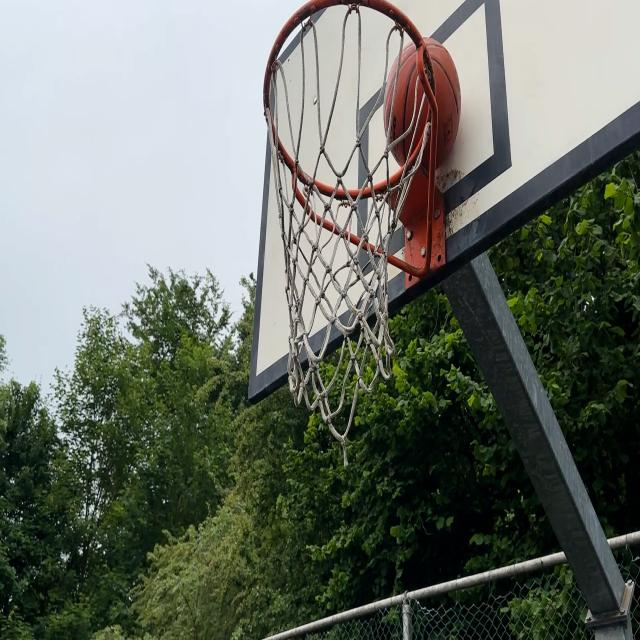rebound_hit: (384, 37, 461, 172)
